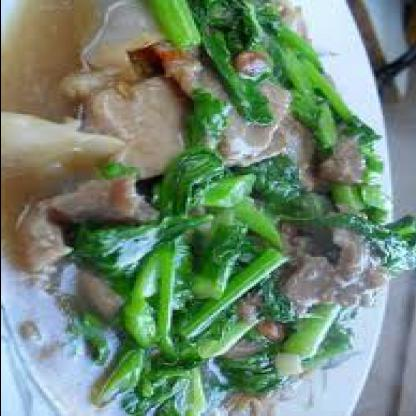Laadna: (2, 13, 405, 414)
